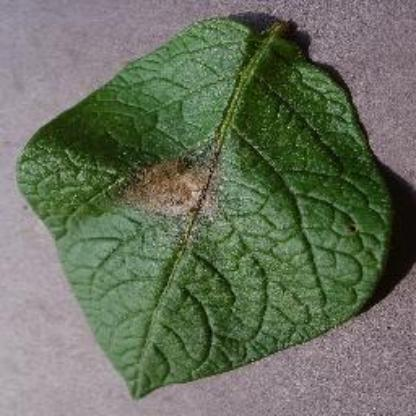Late-Blight: (13, 14, 393, 398)
